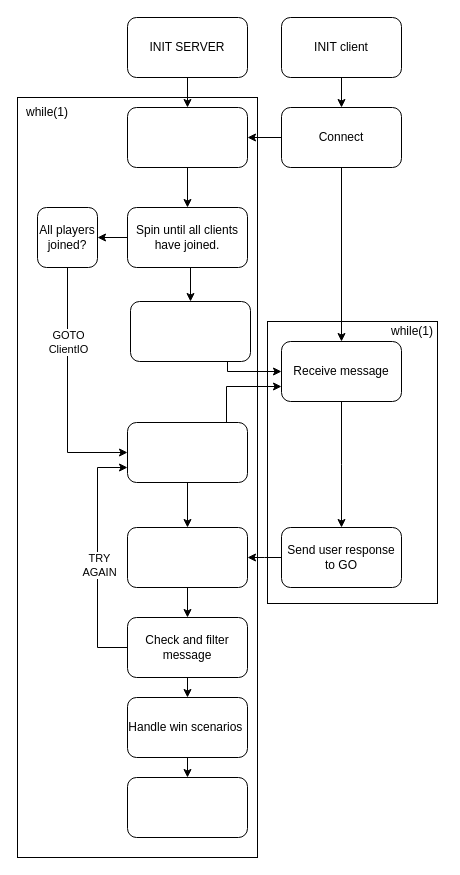
Some shapes in this 460 by 875 pixel diagram are drawn without their labels. The shapes that lost their labels are listed below. From the top down, each one's centre as x and y in pixels, then its label:
point 187,137: Select incoming clients
point 190,331: send welcomes to the clients as they join.
point 187,452: Send Go and Score OR Error and Go message to client in order
point 187,557: Receive from clients
point 187,807: Game over??
